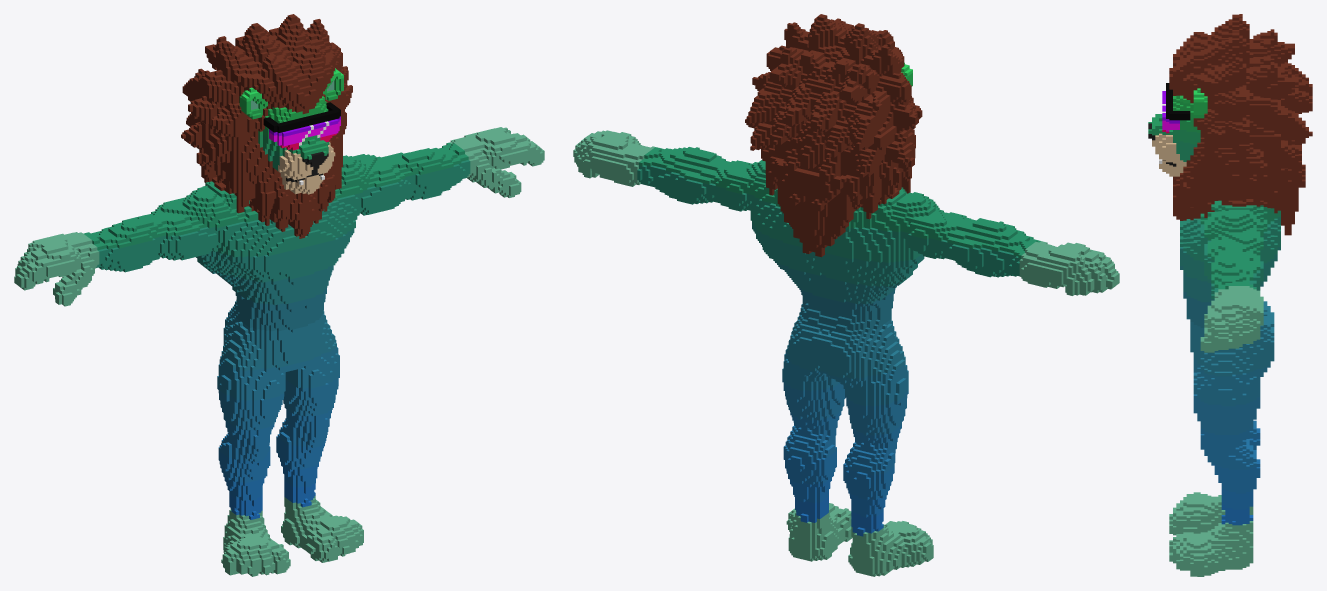
Rendered from 285-DMo0E5sF.glb.
3 views of the same model, side by side, from view 1: azimuth 30°, elevation 25°; view 2: azimuth 150°, elevation 25°; view 3: azimuth 270°, elevation 25° (orthographic). The views are drawn at different scales.
Parts seen in each view (by area): view 1: standard; view 2: standard; view 3: standard.
Boxes of the visible parts, box(x1,y1,x2,y2) form: standard: box(14, 14, 544, 576); standard: box(573, 14, 1119, 576); standard: box(1148, 14, 1312, 576).
Bounding box in the file's own units: 17.2 × 16.5 × 4.7.
Materials: 4 (4 with a texture image).
